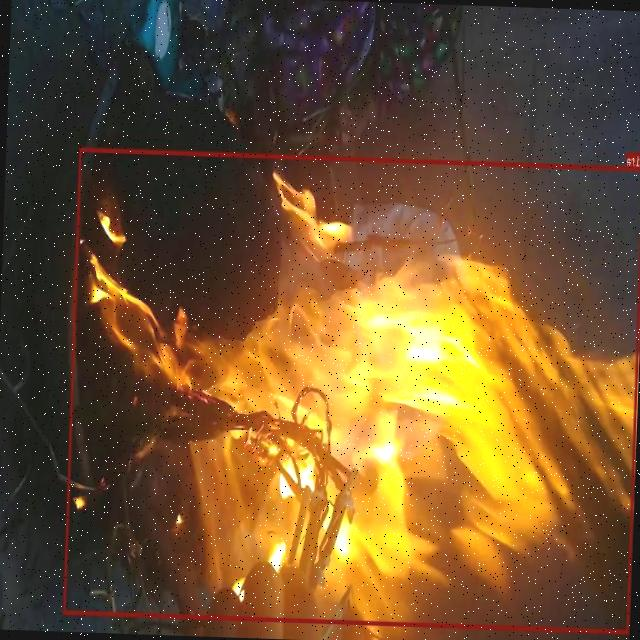fire: (63, 146, 640, 632)
